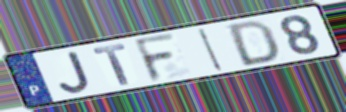8: (279, 14, 323, 55)
D: (226, 19, 281, 68)
F: (131, 31, 179, 84)
I: (196, 26, 226, 73)
J: (57, 49, 94, 94)
T: (91, 42, 132, 87)
